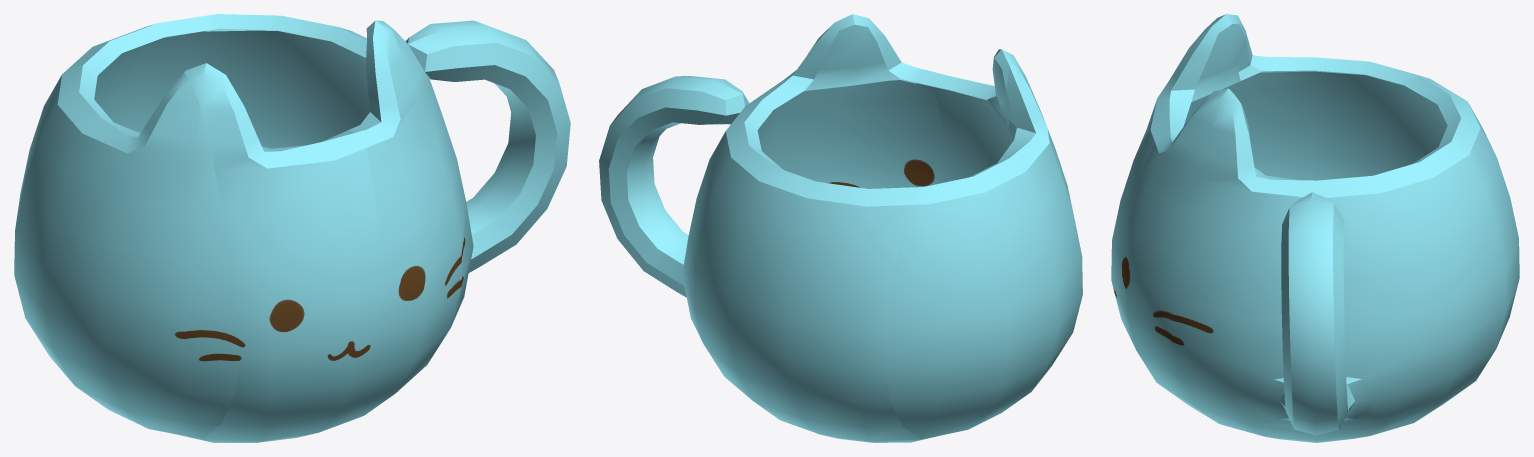
File: cat_mug.fbx
3 views of the same model, side by side, from view 1: azimuth 30°, elevation 25°; view 2: azimuth 150°, elevation 25°; view 3: azimuth 270°, elevation 25° (orthographic). The views are drawn at different scales.
Visible parts, largest first — view 1: ceramic.001, ceramic.003, ceramic.002; view 2: ceramic.001, ceramic.003, ceramic.002; view 3: ceramic.001, ceramic.003, ceramic.002.
Part boxes in pixels (x1,y1,x2,y2): ceramic.001: (174,14,570,422); ceramic.003: (14,64,240,438); ceramic.002: (71,17,384,442); ceramic.001: (599,14,949,424); ceramic.003: (885,64,1082,439); ceramic.002: (760,49,1023,442); ceramic.001: (1117,88,1513,442); ceramic.003: (1183,18,1447,180); ceramic.002: (1111,14,1519,331).
Size of the model in its own units: 5.17 by 3.78 by 3.93.
